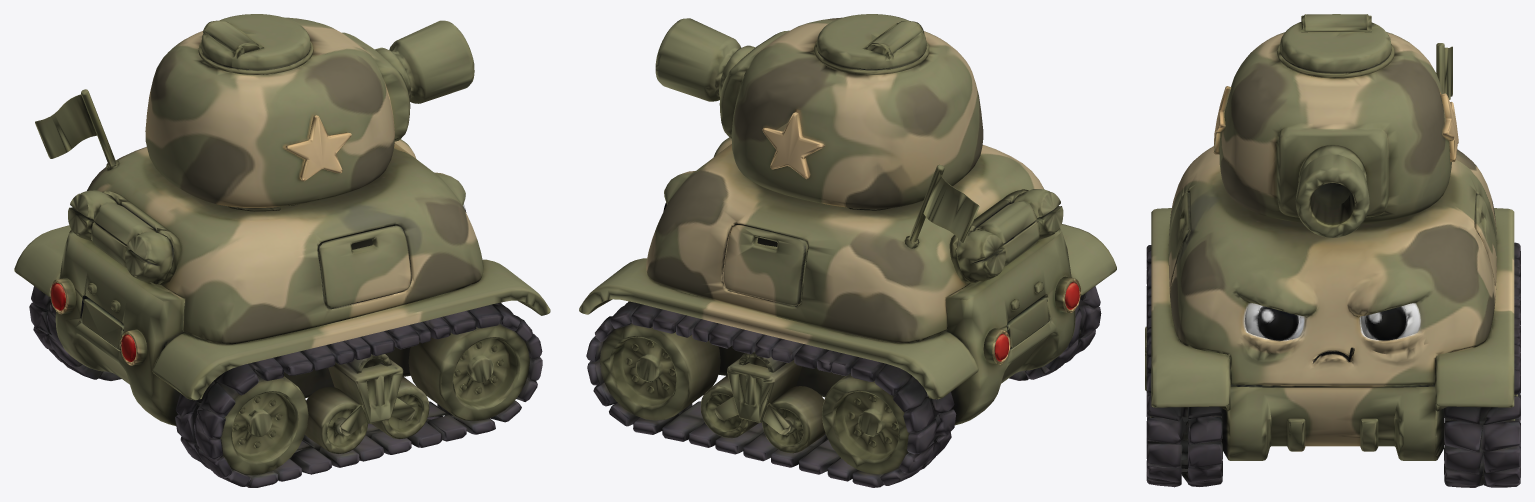
3 views of the same model, side by side, from view 1: azimuth 30°, elevation 25°; view 2: azimuth 150°, elevation 25°; view 3: azimuth 270°, elevation 25° (orthographic). The views are drawn at different scales.
Visible parts, largest first — view 1: Model; view 2: Model; view 3: Model.
Part boxes in pixels (x1=…): Model: x1=14, y1=14, x2=550, y2=487; Model: x1=579, y1=14, x2=1116, y2=487; Model: x1=1145, y1=14, x2=1520, y2=487.
Bounding box in the file's own units: 0.9995 × 0.9624 × 0.853.
1 material, 1 textured.
